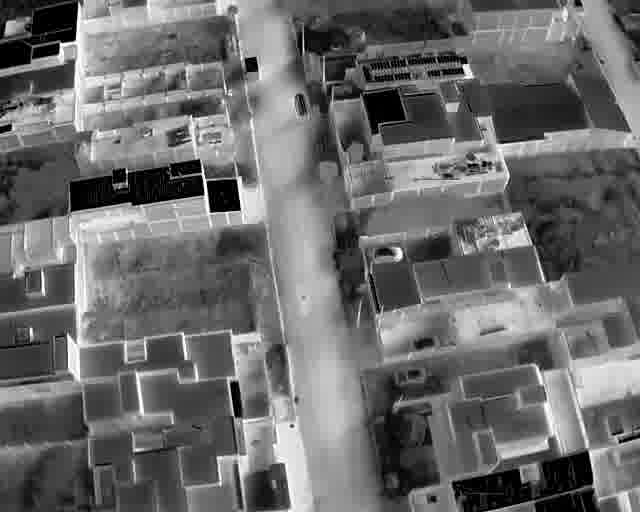car: (367, 245, 402, 264), (391, 366, 425, 384), (409, 335, 441, 351), (293, 92, 310, 119), (571, 0, 584, 12)
